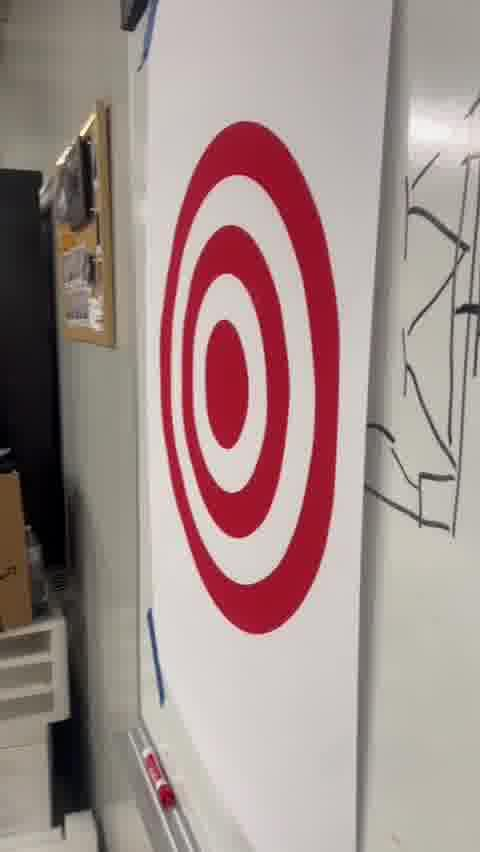target_red: (160, 119, 342, 633)
